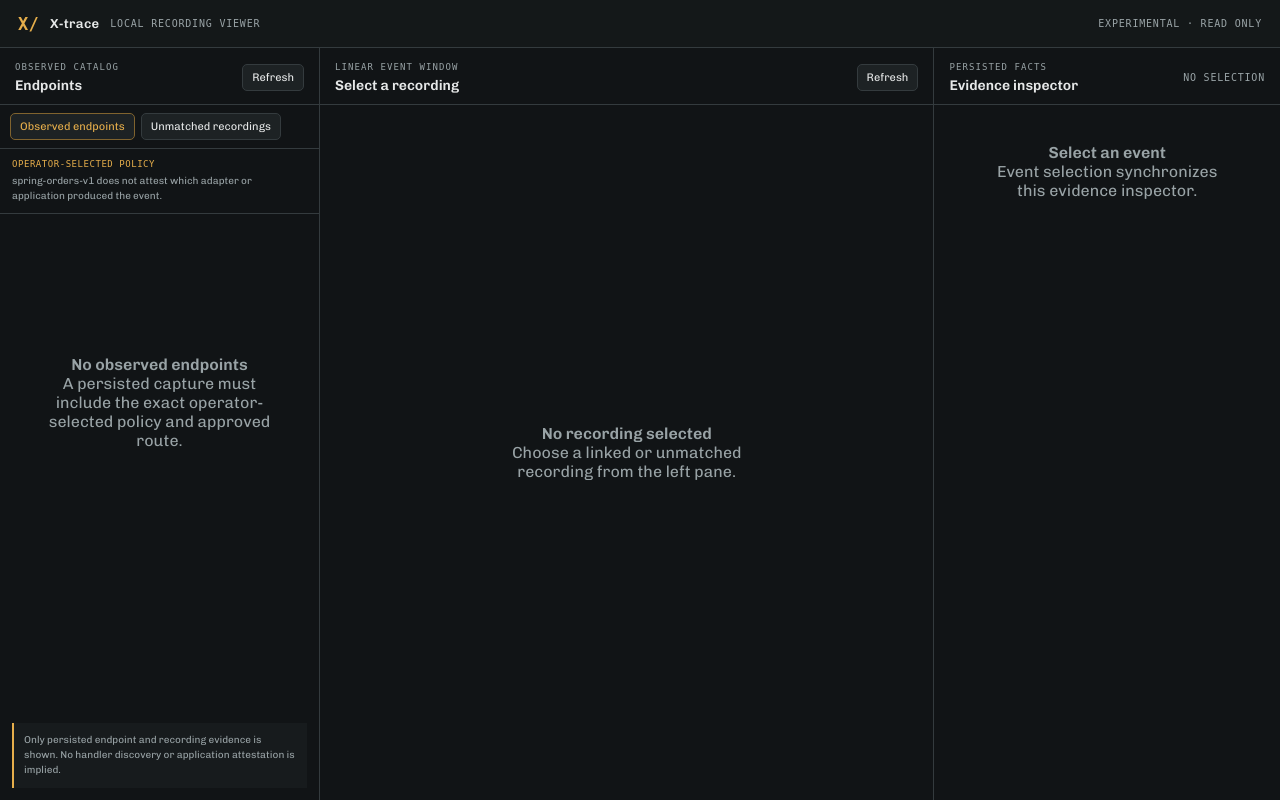
endpoint-first recording viewer › keeps unmatched separate and displays a legacy null reason without inventing one
The image size is (1280, 800).
Expected: the text "Operator-selected policy" is shown, [12, 159, 155, 169]
Step 1. Click the button "Unmatched recordings" → [211, 126], box [141, 113, 281, 140]
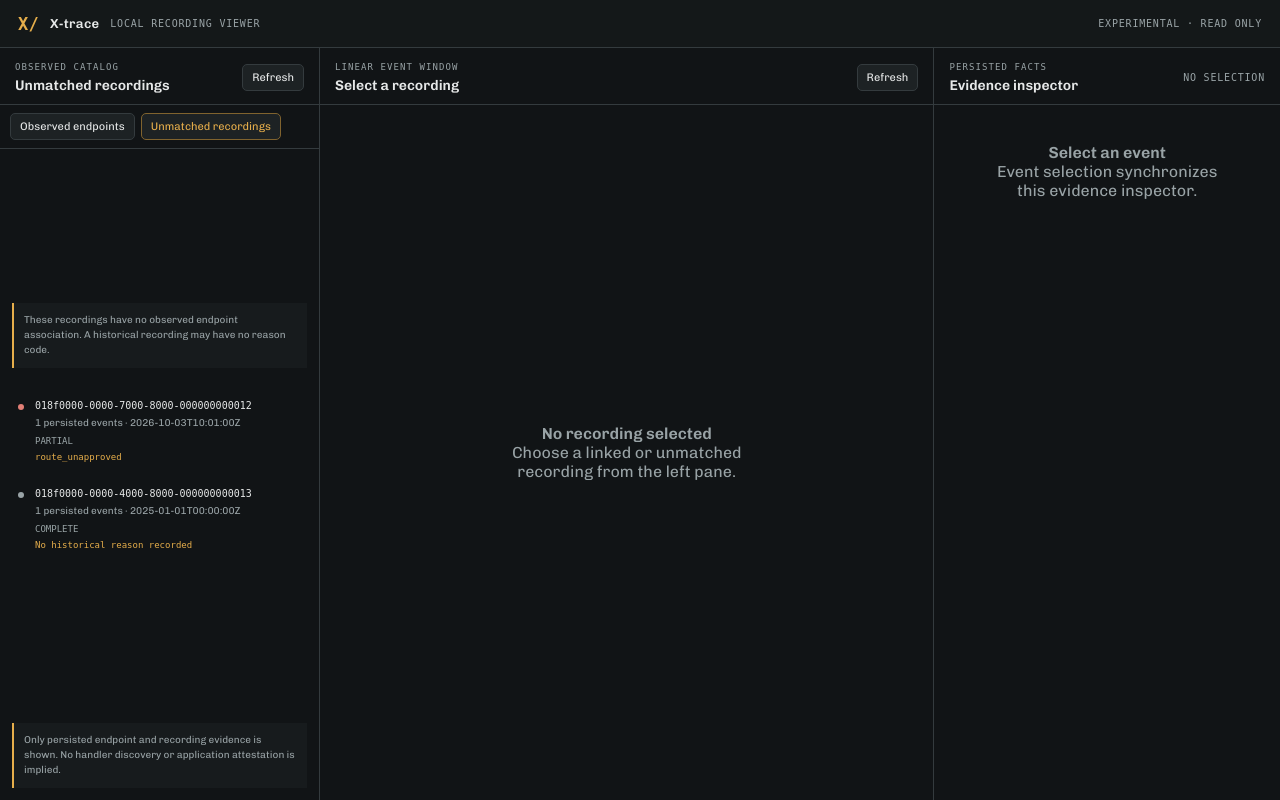
Expected: the button "018f0000-0000-7000-8000-000000000012" is shown, [8, 388, 311, 474]
Expected: the button "018f0000-0000-4000-8000-000000000013" shows "No historical reason recorded"
Step 2. Click the button "018f0000-0000-4000-8000-000000000013" → [160, 518], box [8, 476, 311, 562]
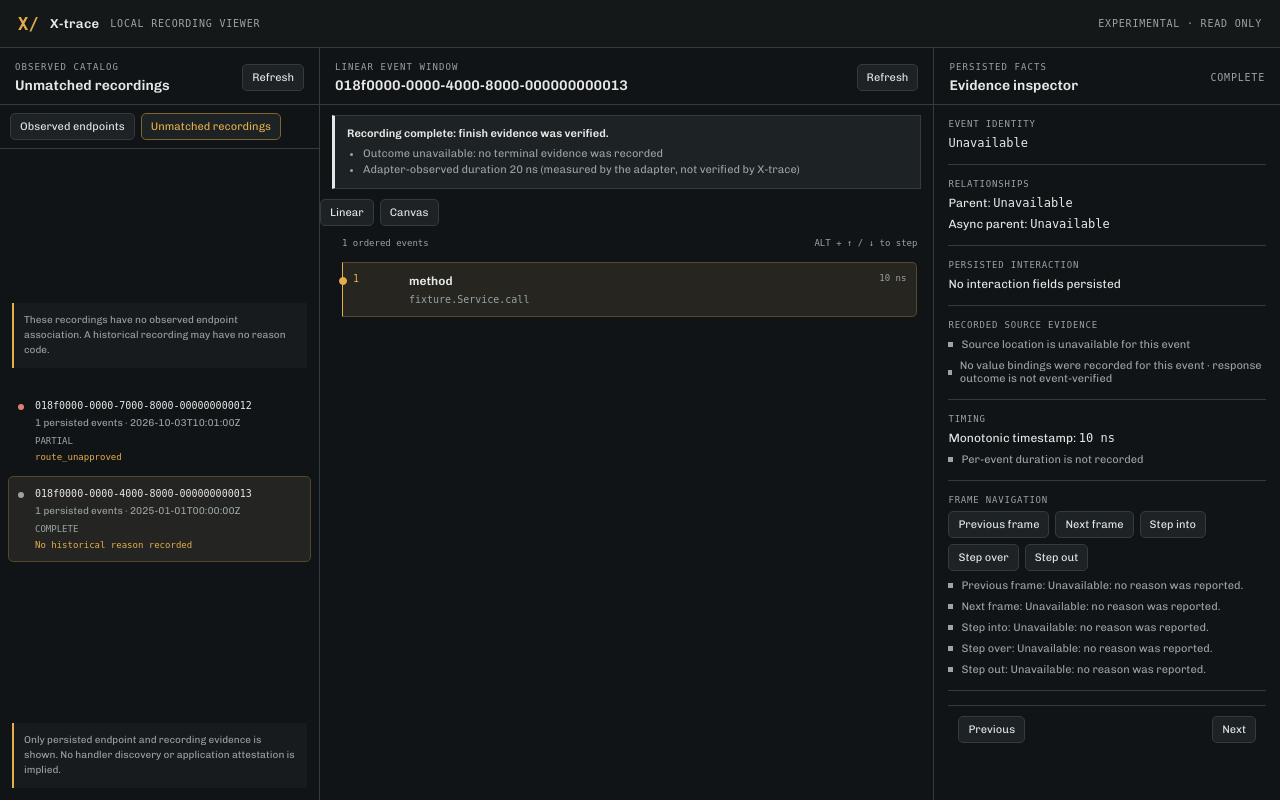
Expected: the text "fixture.Service.call" is shown, [409, 294, 529, 305]
